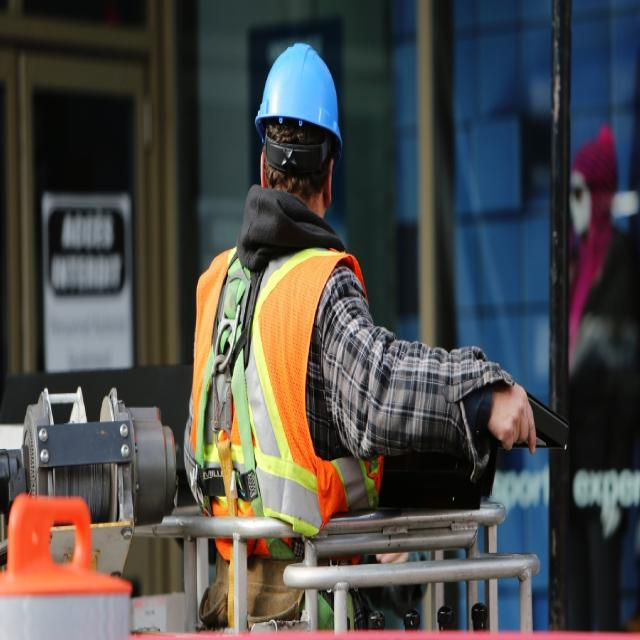helmet: (254, 39, 346, 154)
vest: (190, 237, 386, 558)
